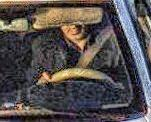seatbelt: (80, 21, 111, 69)
